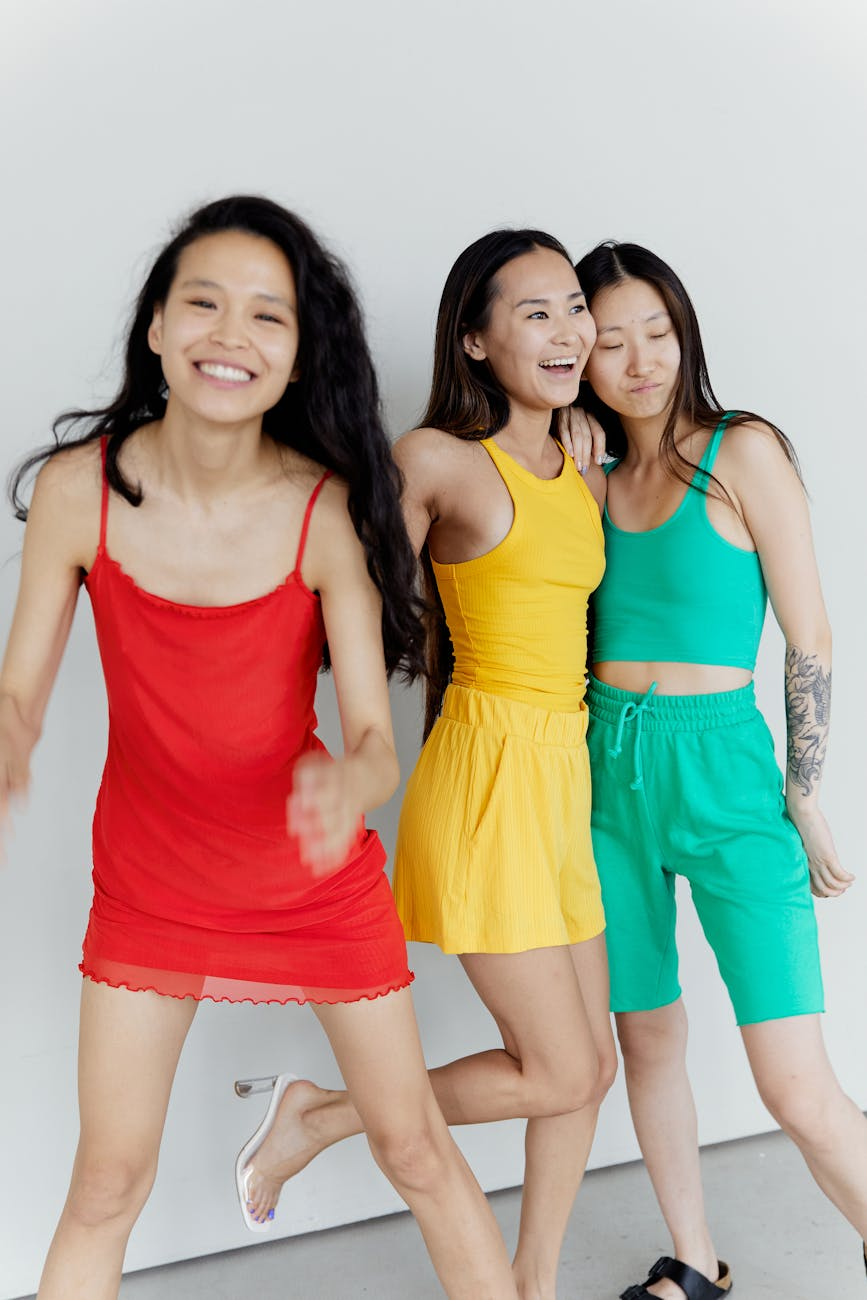crop_top: (577, 419, 780, 668)
opened_foot: (225, 1070, 319, 1240), (608, 1246, 742, 1300)
short_medium_skirt: (70, 792, 405, 1011), (378, 707, 625, 958)
shorts: (590, 691, 844, 1023)
sleeveless_top: (50, 448, 389, 779), (405, 412, 623, 702)
